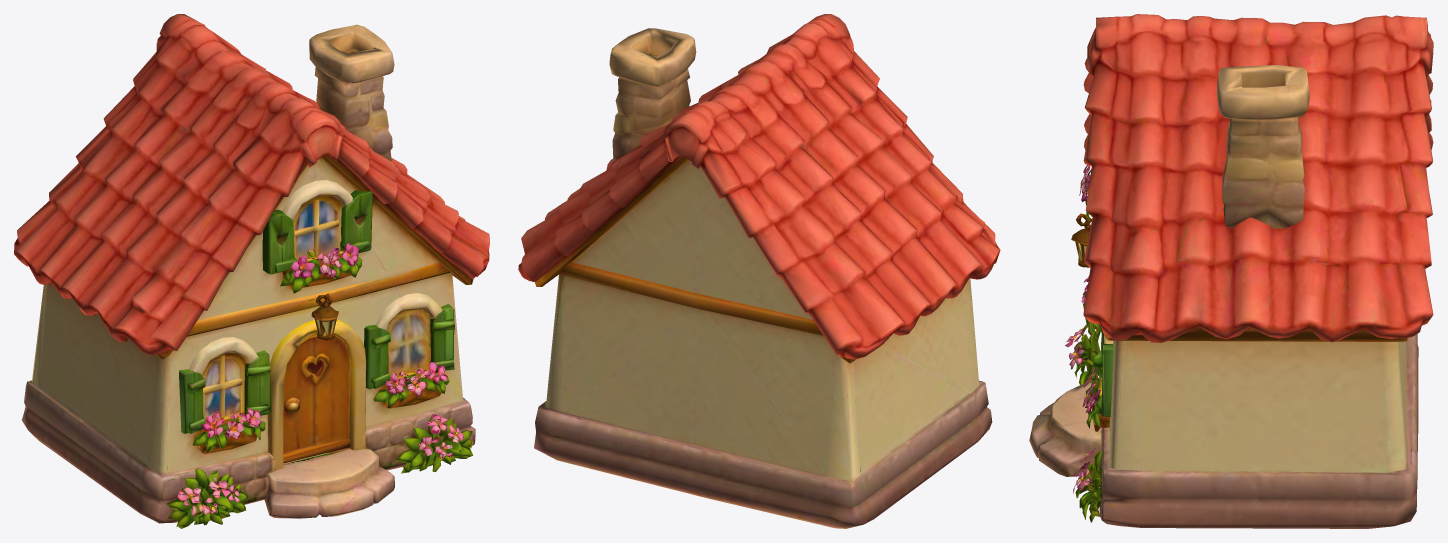
File: cottage_green.glb
3 views of the same model, side by side, from view 1: azimuth 30°, elevation 25°; view 2: azimuth 150°, elevation 25°; view 3: azimuth 270°, elevation 25° (orthographic). The views are drawn at different scales.
Visible parts, largest first — view 1: geometry_0; view 2: geometry_0; view 3: geometry_0.
Part boxes in pixels (x1=…): geometry_0: x1=14, y1=14, x2=489, y2=528; geometry_0: x1=518, y1=14, x2=1000, y2=528; geometry_0: x1=1029, y1=14, x2=1433, y2=528.
Size of the model in its own units: 0.9502 by 0.9292 by 0.7803.
Materials: 1 (1 with a texture image).
